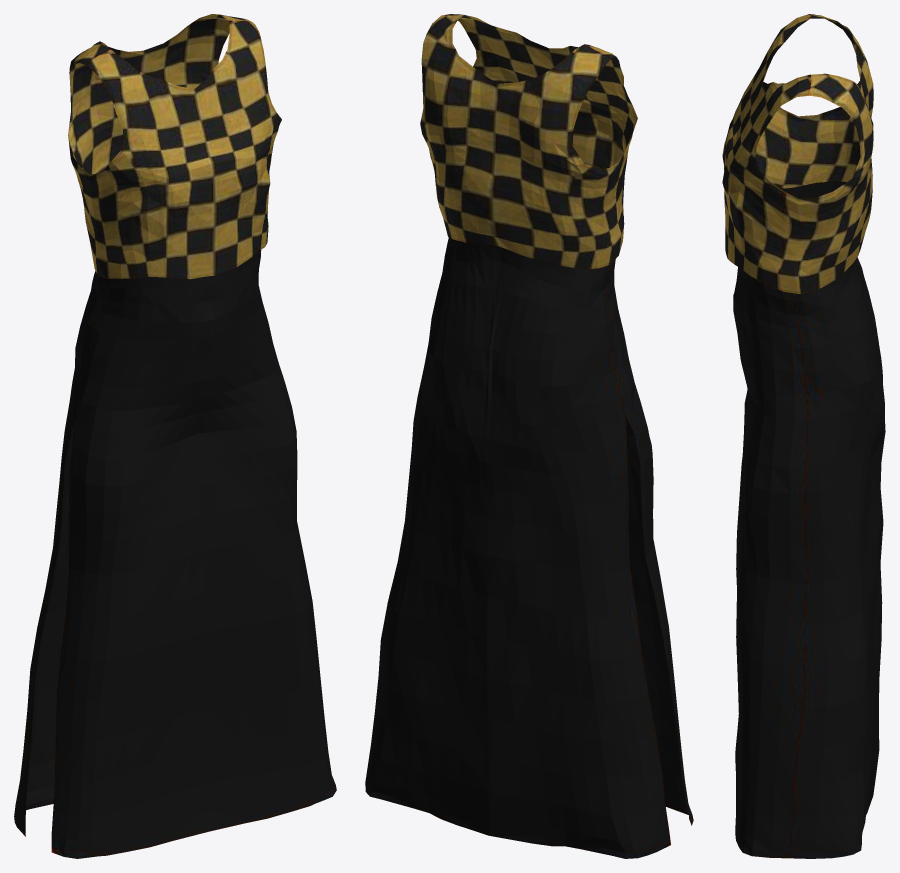
The model's file is mhw_mindfront_f_dress_07.glb.
The picture shows the model from 3 angles, left to right: view 1: azimuth 30°, elevation 25°; view 2: azimuth 150°, elevation 25°; view 3: azimuth 270°, elevation 25°; orthographic projection. The views are drawn at different scales.
Parts seen in each view (by area): view 1: mhw_mindfront_f_dress_07; view 2: mhw_mindfront_f_dress_07; view 3: mhw_mindfront_f_dress_07.
Boxes of the visible parts, x1,y1,x2,y2 form: mhw_mindfront_f_dress_07: [14, 14, 336, 858]; mhw_mindfront_f_dress_07: [365, 14, 693, 858]; mhw_mindfront_f_dress_07: [722, 14, 885, 858].
Size of the model in its own units: 0.5851 by 1.49 by 0.2945.
Materials: 1 (1 with a texture image).
